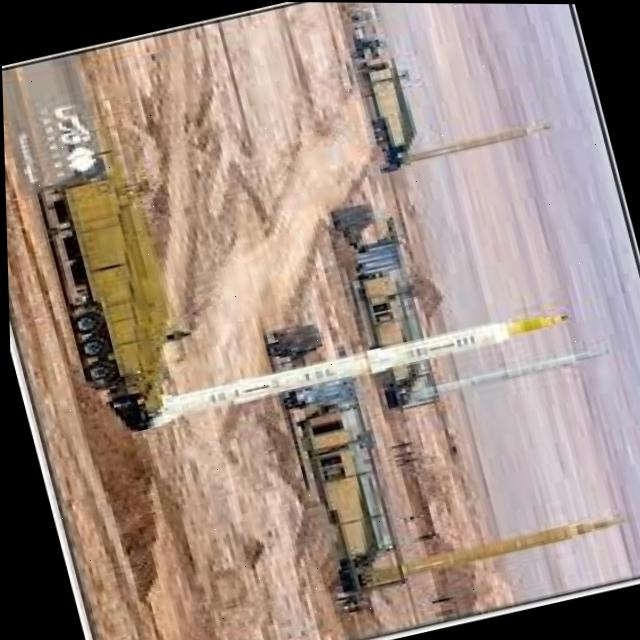missile: (128, 295, 573, 435), (345, 504, 637, 601), (391, 337, 618, 412), (387, 114, 553, 172)
